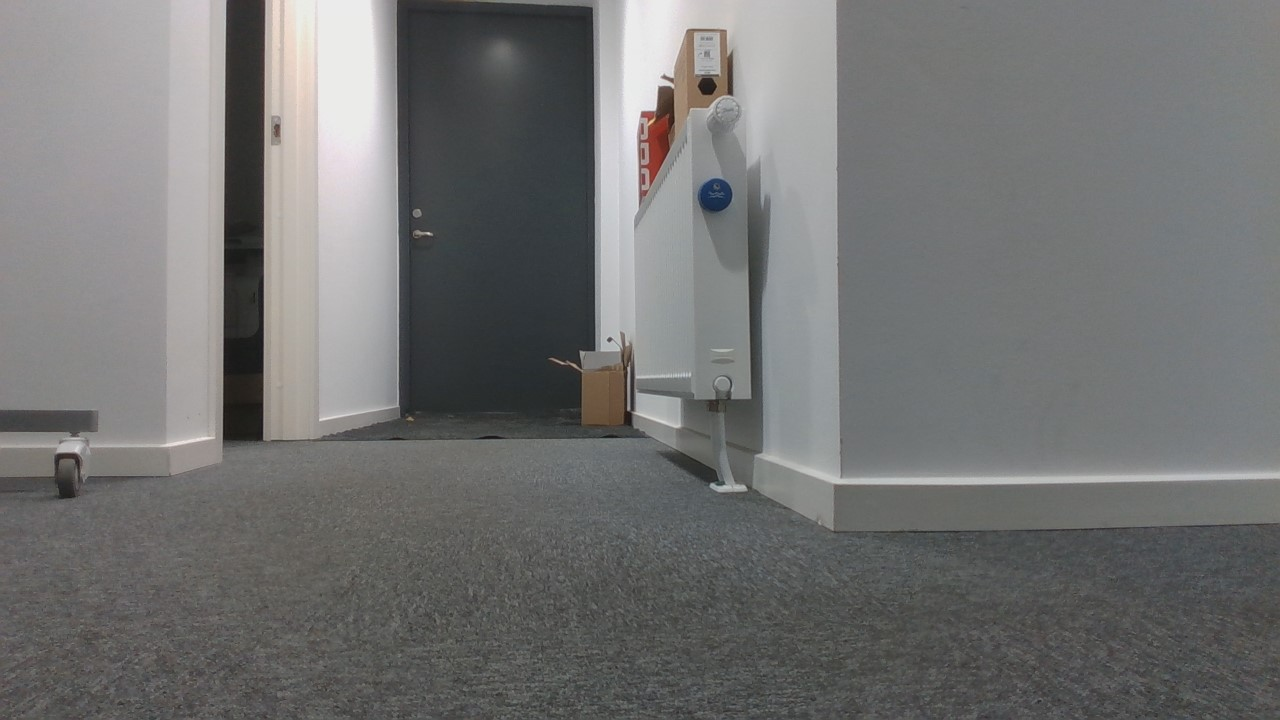alfa: (694, 174, 735, 215)
